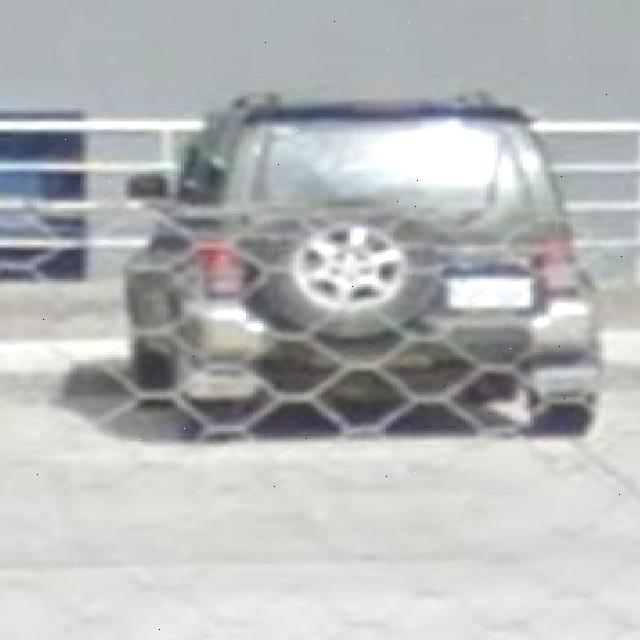car: (132, 99, 598, 439)
